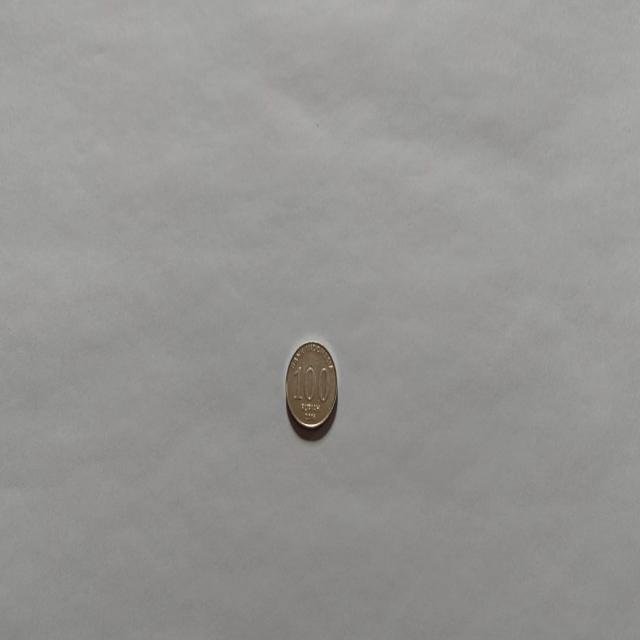seratus rupiah: (284, 339, 338, 432)
